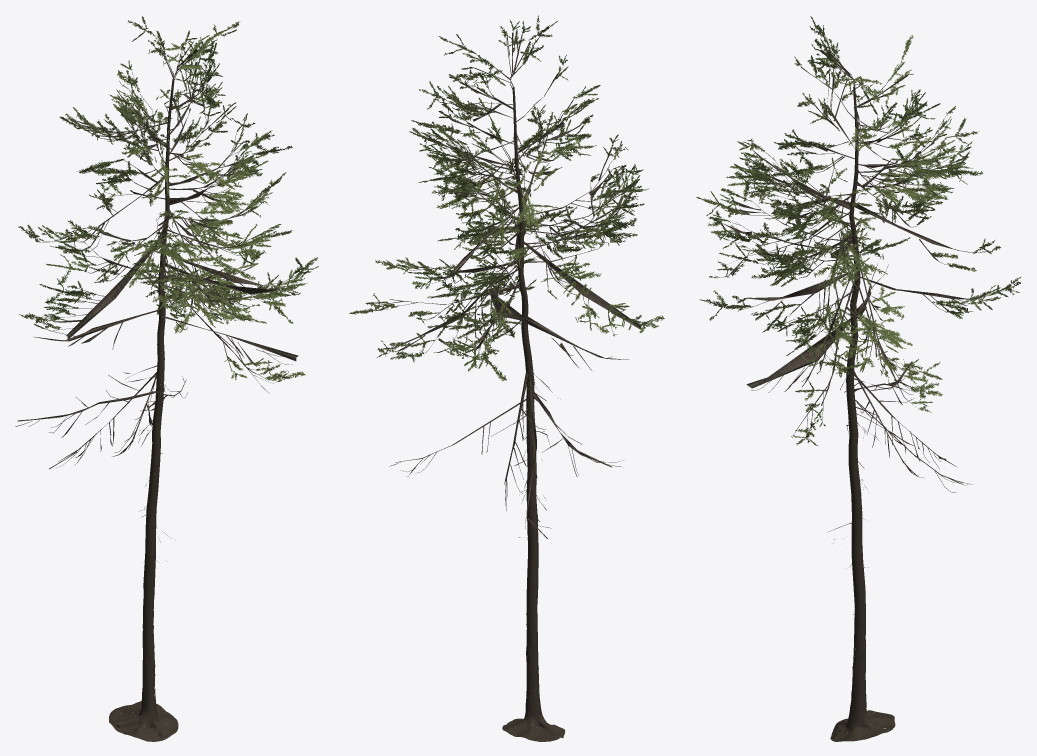
Rendered from fir-tree-01-c.glb.
3 renders of one model, left to right at view 1: azimuth 30°, elevation 25°; view 2: azimuth 150°, elevation 25°; view 3: azimuth 270°, elevation 25°, orthographic. The views are drawn at different scales.
Parts seen in each view (by area): view 1: fir_tree_01_c; view 2: fir_tree_01_c; view 3: fir_tree_01_c.
Boxes of the visible parts, <box> form: fir_tree_01_c: <box>15,16,318,741</box>; fir_tree_01_c: <box>349,15,664,741</box>; fir_tree_01_c: <box>696,16,1021,741</box>.
Bounding box in the file's own units: 6.35 × 14.54 × 5.97.
Materials: 2 (2 with a texture image).
